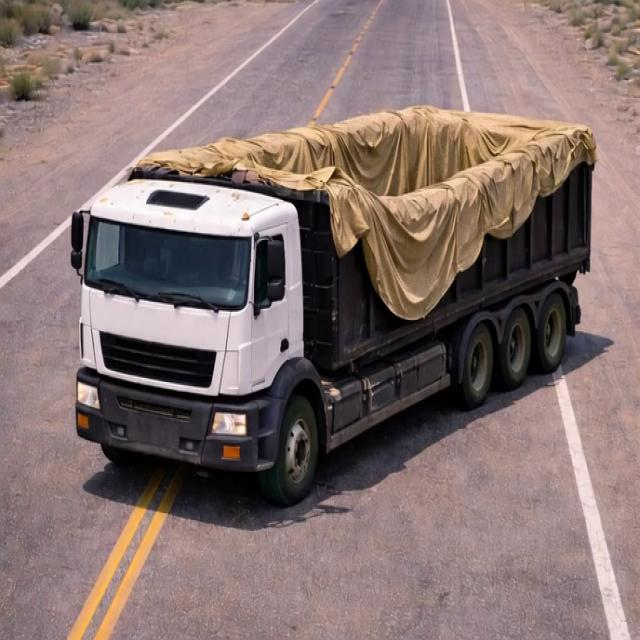trailer: (142, 101, 599, 232)
truck: (62, 91, 596, 488)
